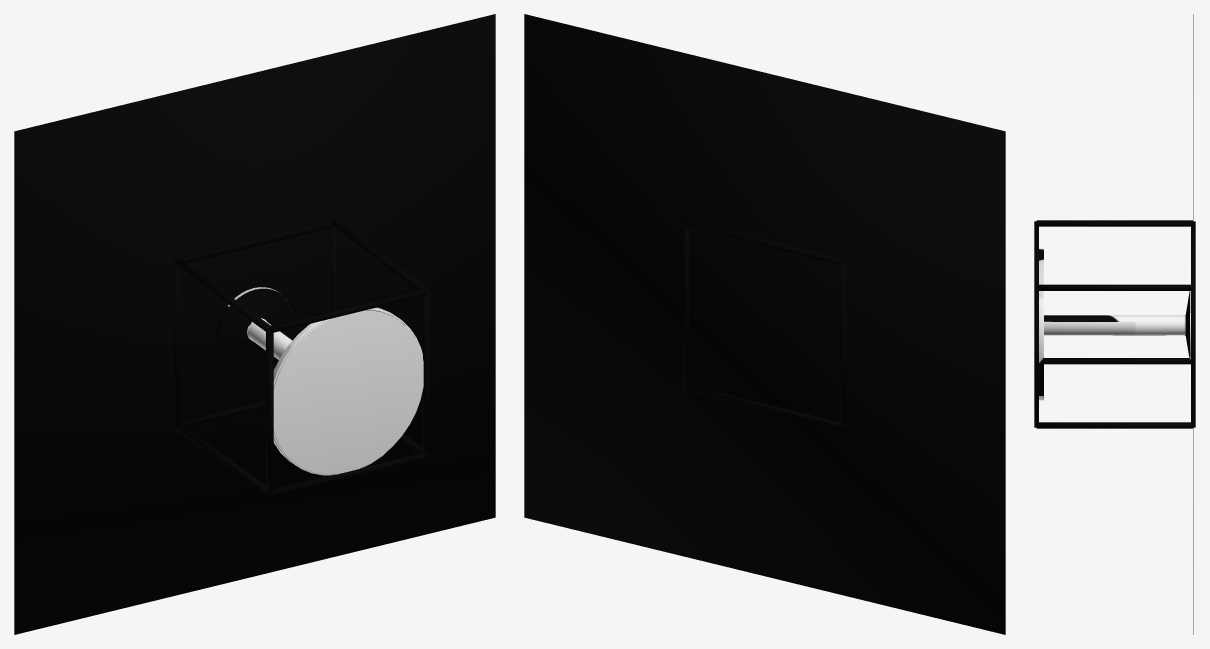
3 renders of one model, left to right at view 1: azimuth 30°, elevation 25°; view 2: azimuth 150°, elevation 25°; view 3: azimuth 270°, elevation 25°, orthographic. The views are drawn at different scales.
Size of the model in its own units: 2 by 2 by 0.6892.
